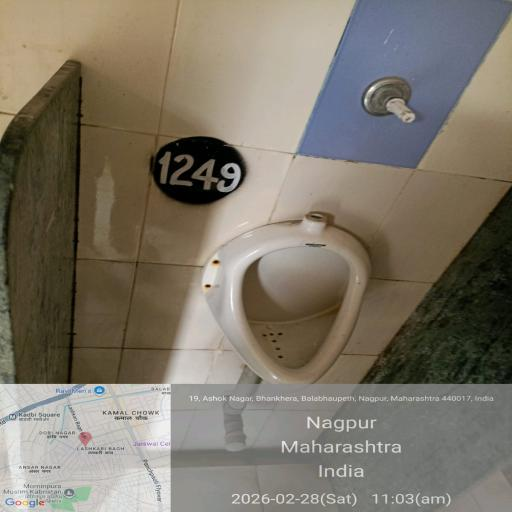clean_floor: (67, 1, 512, 220), (0, 231, 183, 387), (380, 236, 508, 386)
partial_dirty_floor: (220, 236, 366, 378)
